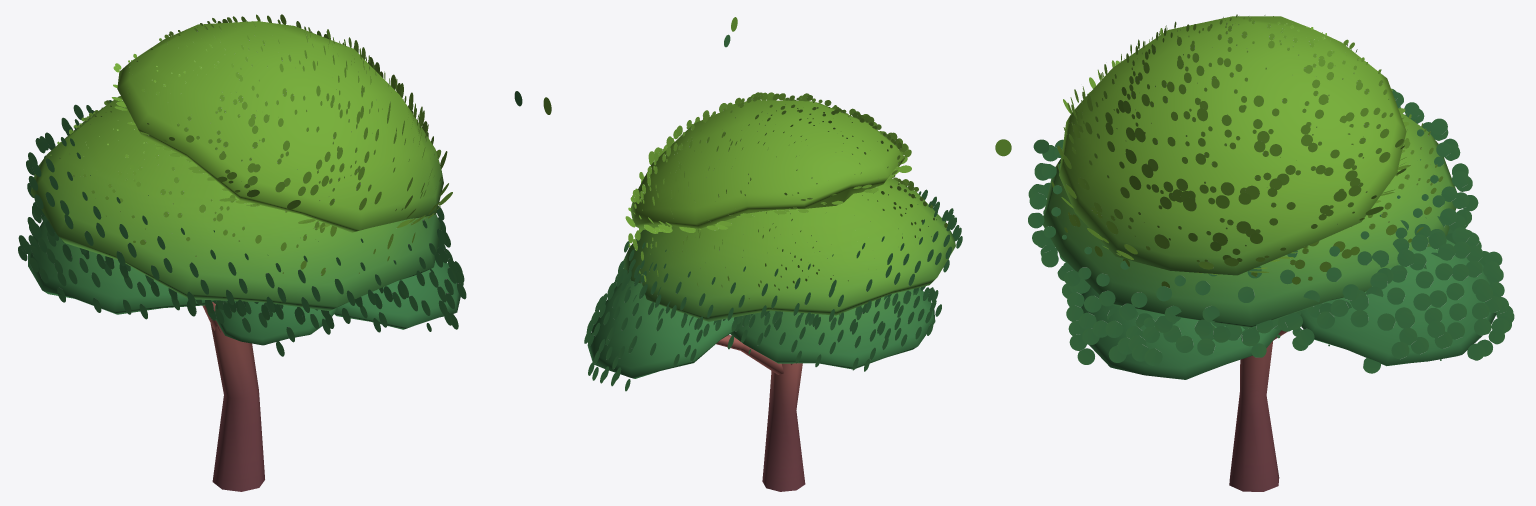
File: pohon.fbx
3 renders of one model, left to right at view 1: azimuth 30°, elevation 25°; view 2: azimuth 150°, elevation 25°; view 3: azimuth 270°, elevation 25°, orthographic. The views are drawn at different scales.
Visible parts, largest first — view 1: Tree.007, Tree.022; view 2: Tree.007, Tree.022; view 3: Tree.007, Tree.022.
Boxes of the visible parts, <box> form: Tree.007: <box>28,21,460,345</box>; Tree.022: <box>202,302,264,491</box>; Tree.007: <box>587,100,955,378</box>; Tree.022: <box>716,335,805,491</box>; Tree.007: <box>1043,16,1496,379</box>; Tree.022: <box>1229,330,1287,491</box>.
Bounding box in the file's own units: 513 × 597 × 632.
1 material, 1 textured.
